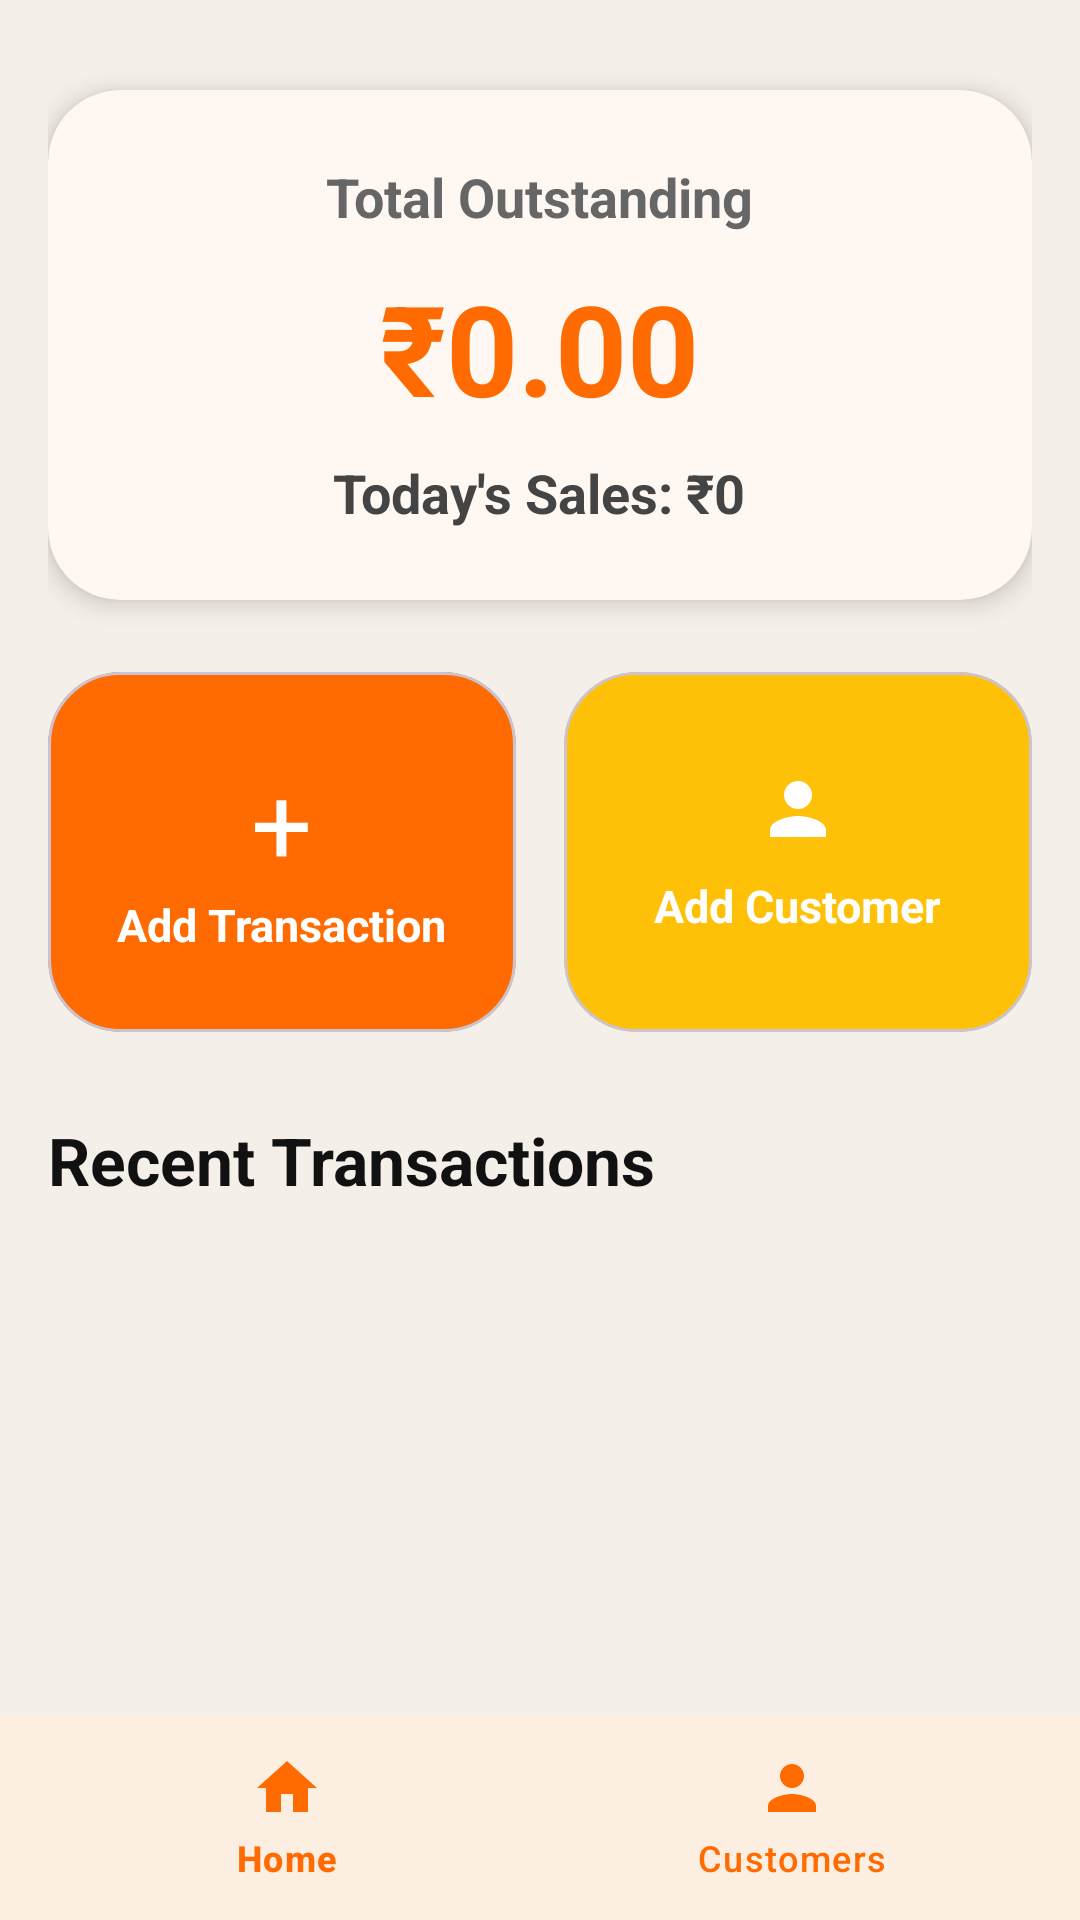

Where icons sit on this 1080x1920 app screen, as (x1, y1, x2, y2):
person: (770, 781, 826, 837)
